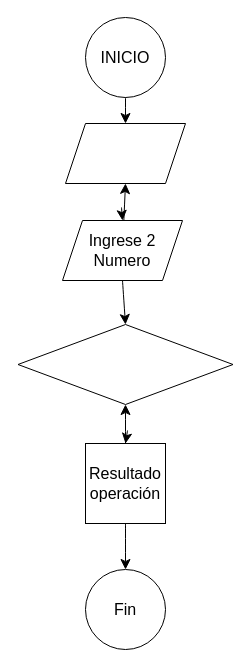
This 250x667 diagram has some shape labels left out. The shapes that lost their labels are listed below. From the top down, each one's box as (x1, y1, x2, y2) in pixels, then its label:
(64, 122, 186, 184): Ingrese 1 Numero
(17, 324, 233, 404): Elija Operación: +,-,*,/,%
